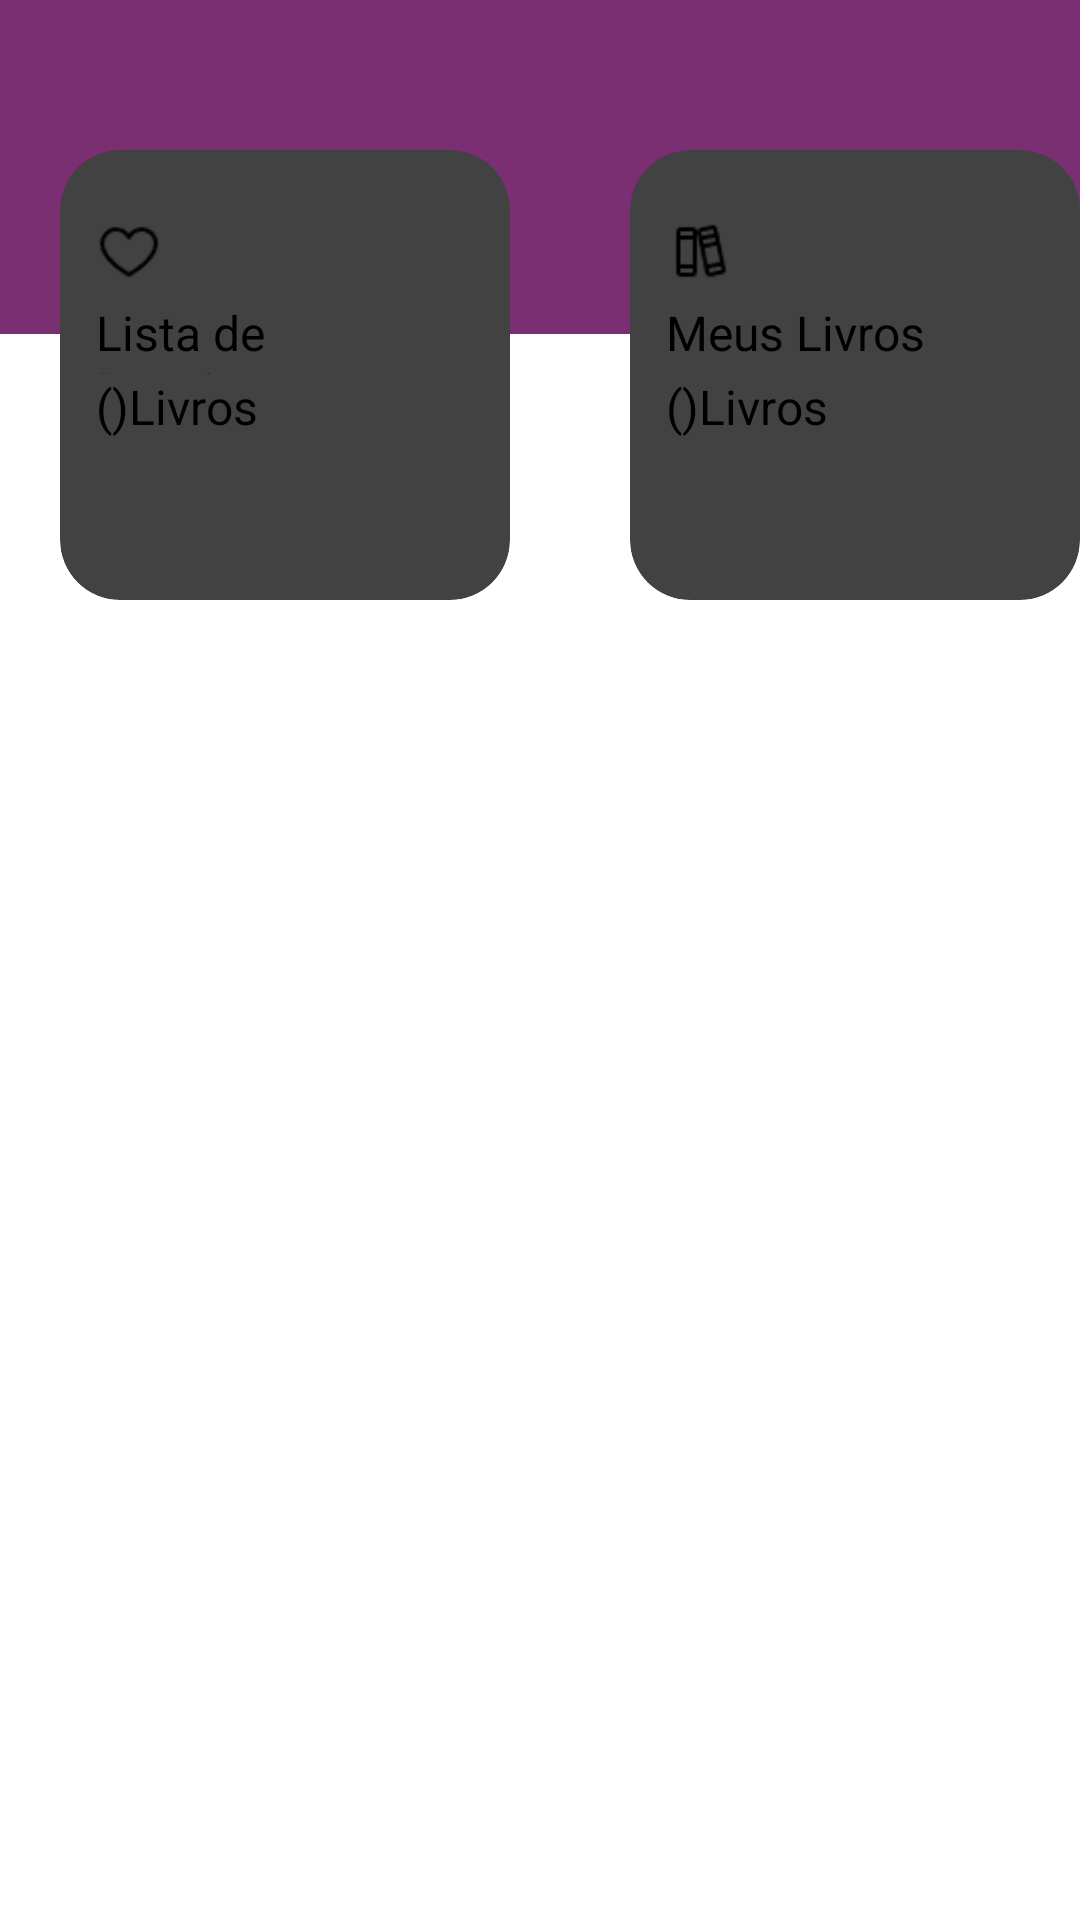

Icons on this 1080px x 1920px Android screen, each with its box as (x1, y1, x2, y2):
books: (676, 225, 726, 277)
heart: (100, 227, 158, 277)
